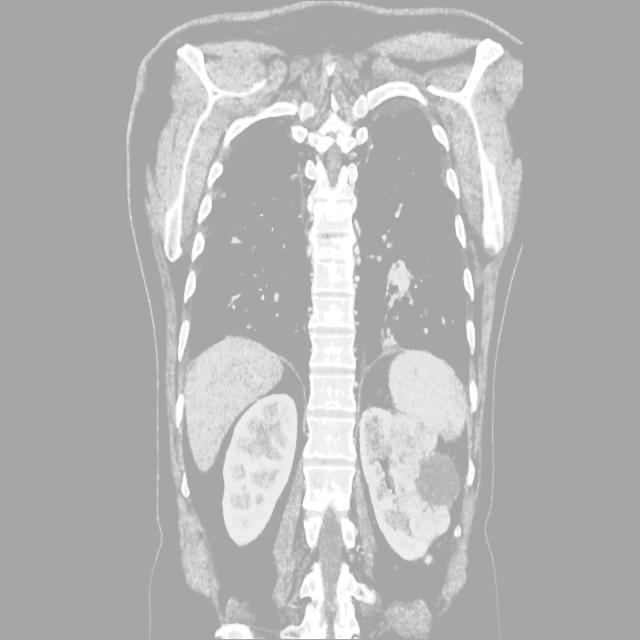TUMOR: (97, 361, 543, 558)
